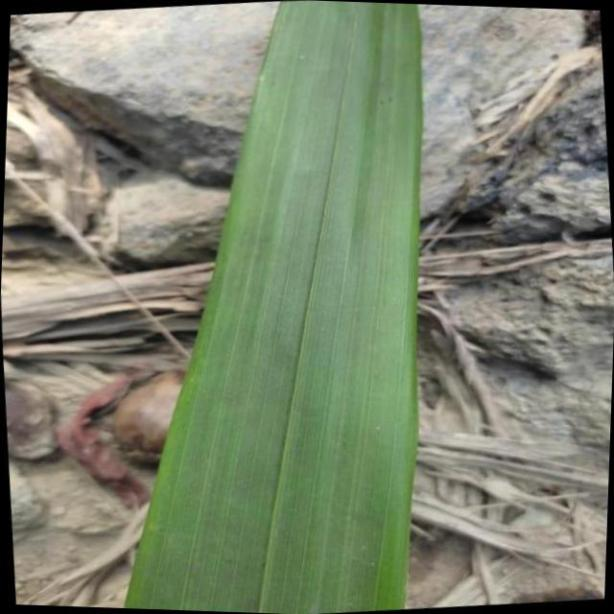Healthy: (123, 0, 421, 614)
